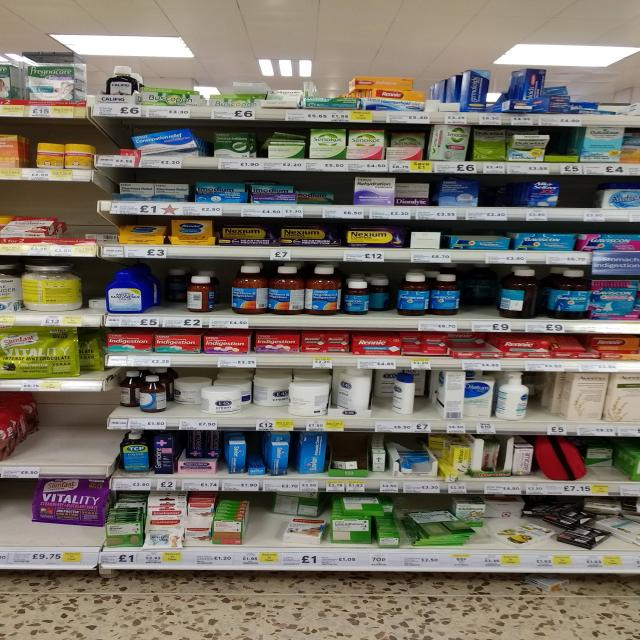void: (28, 395, 72, 477), (69, 395, 113, 476), (0, 480, 28, 568), (243, 512, 281, 569), (68, 182, 97, 256), (564, 176, 604, 222), (485, 176, 523, 220), (99, 128, 135, 169)
